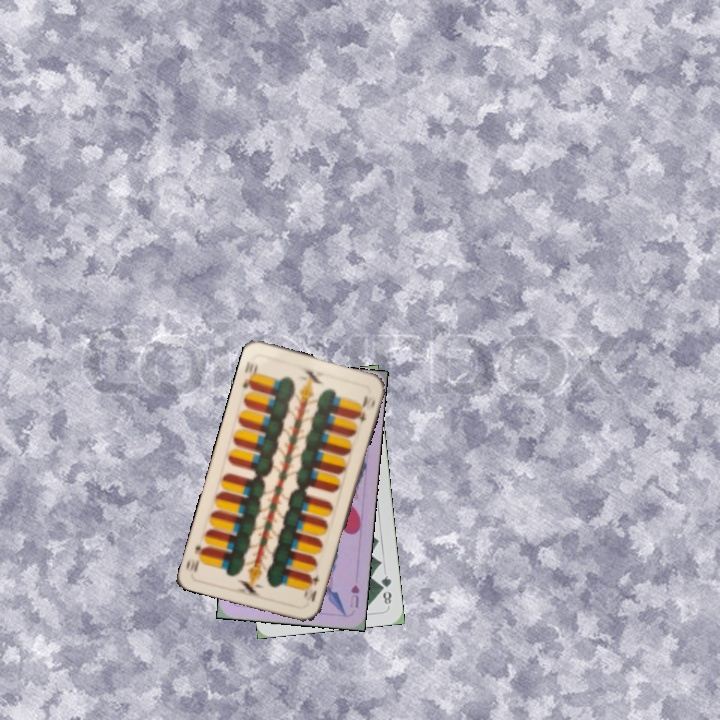E10: (238, 357, 260, 392), (300, 571, 322, 604)
G8: (376, 571, 394, 607)
HU: (346, 581, 362, 610)
